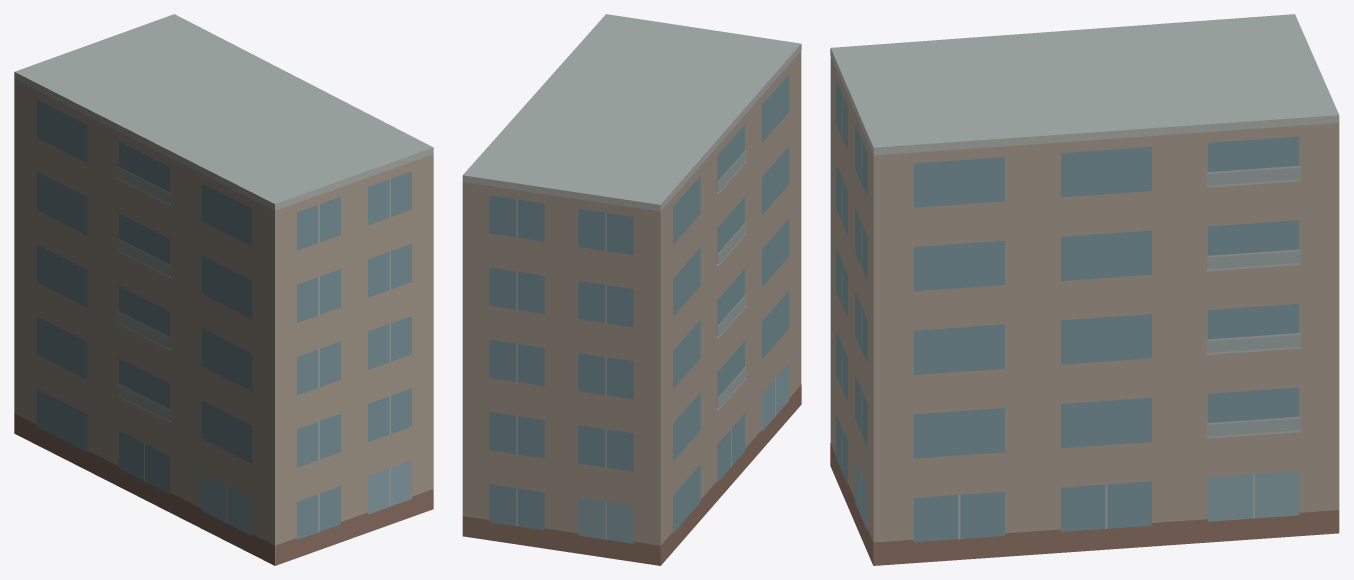
The model's file is survey-upis-32706228.glb.
3 views of the same model, side by side, from view 1: azimuth 30°, elevation 25°; view 2: azimuth 150°, elevation 25°; view 3: azimuth 270°, elevation 25° (orthographic). The views are drawn at different scales.
Parts seen in each view (by area): view 1: survey-upis-32706228.tmp; view 2: survey-upis-32706228.tmp; view 3: survey-upis-32706228.tmp.
Part boxes in pixels (bbox=[...]): survey-upis-32706228.tmp: bbox=[14, 14, 433, 565]; survey-upis-32706228.tmp: bbox=[462, 14, 801, 565]; survey-upis-32706228.tmp: bbox=[830, 14, 1339, 565].
Size of the model in its own units: 9.03 by 13.15 by 14.51.
